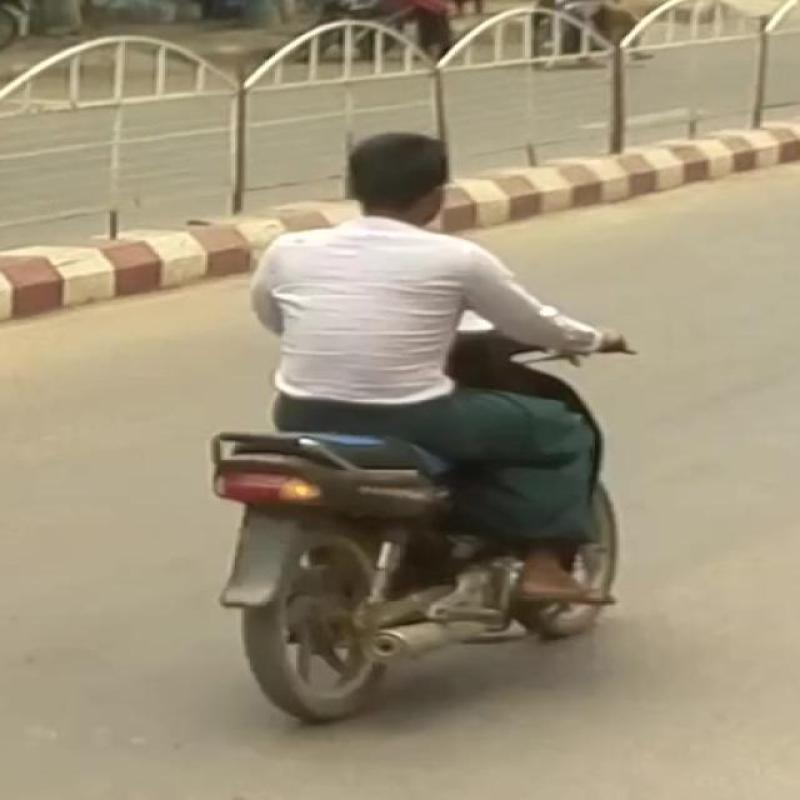nohelmet: (321, 124, 517, 245)
